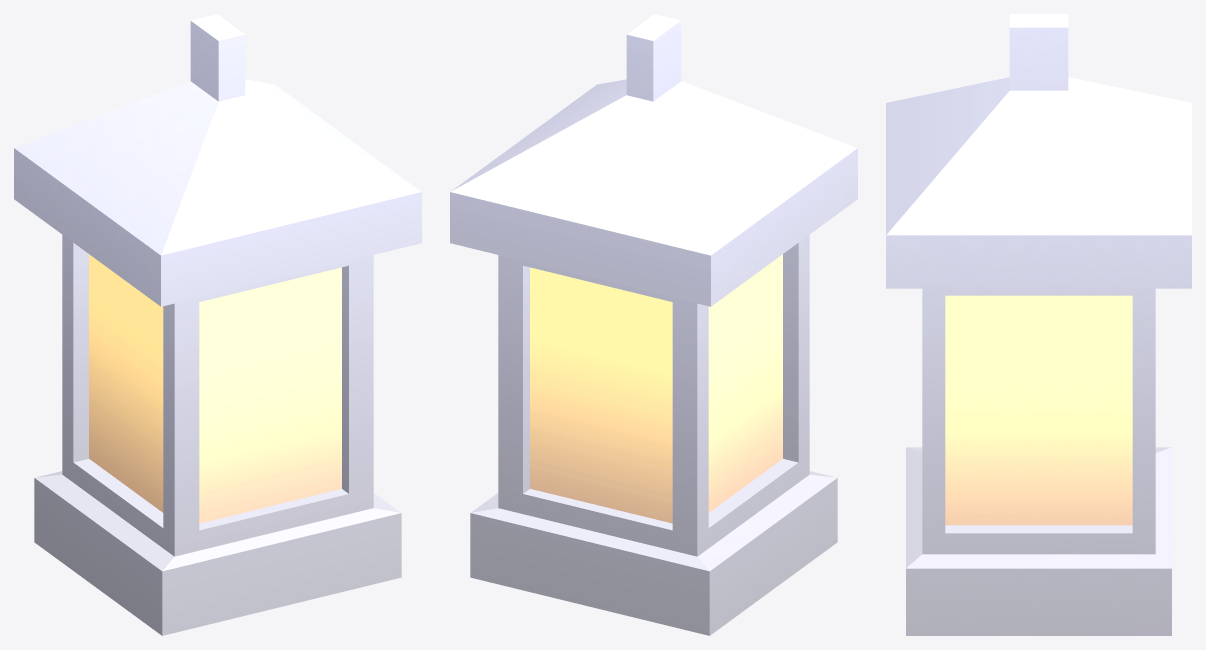
File: lamp.glb
3 views of the same model, side by side, from view 1: azimuth 30°, elevation 25°; view 2: azimuth 150°, elevation 25°; view 3: azimuth 270°, elevation 25° (orthographic). The views are drawn at different scales.
Parts seen in each view (by area): view 1: Lamp; view 2: Lamp; view 3: Lamp.
Part boxes in pixels (box(x1,y1,x2,y2)): Lamp: box(14, 14, 421, 635); Lamp: box(450, 14, 857, 635); Lamp: box(886, 14, 1191, 635).
Size of the model in its own units: 9.83 by 19.18 by 9.59.
